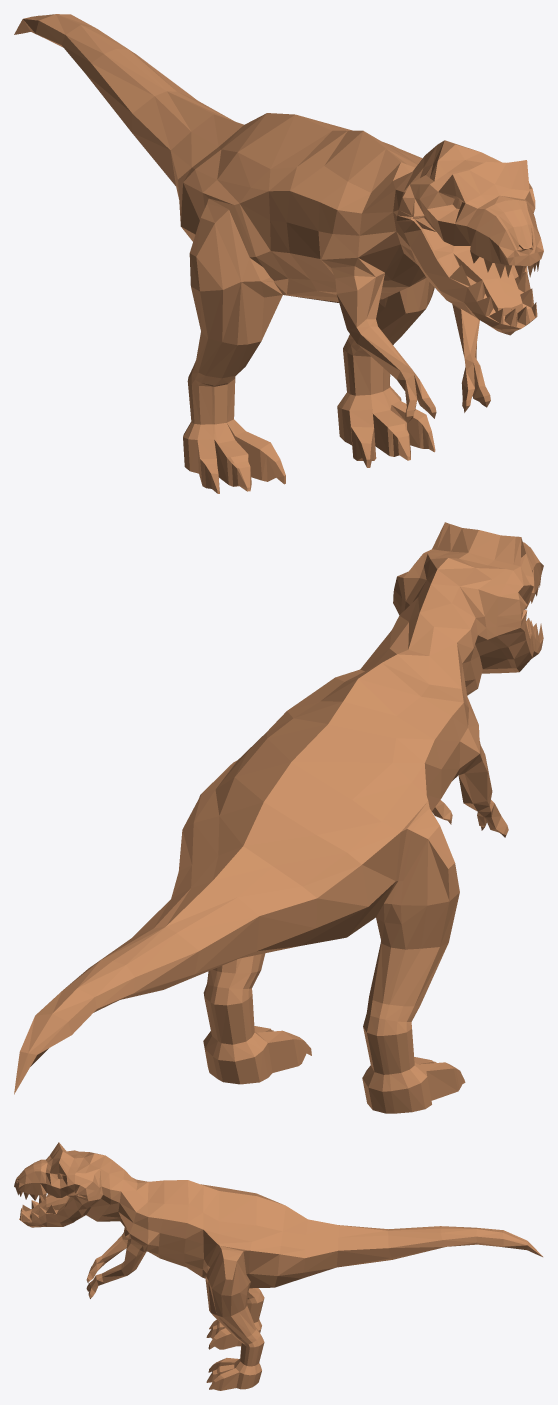
File: Dino3.glb
The picture shows the model from 3 angles, top to bottom: view 1: azimuth 30°, elevation 25°; view 2: azimuth 150°, elevation 25°; view 3: azimuth 270°, elevation 25°; orthographic projection. The views are drawn at different scales.
Size of the model in its own units: 1.95 by 3.09 by 6.88.
